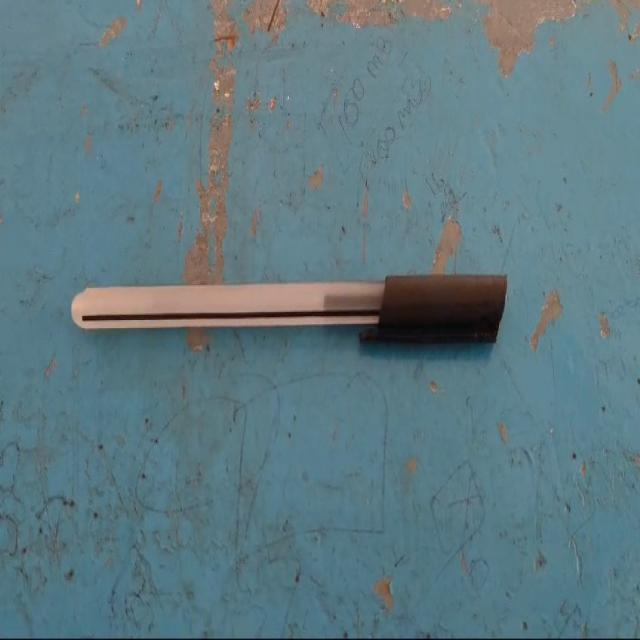pen: (53, 185, 539, 440)
